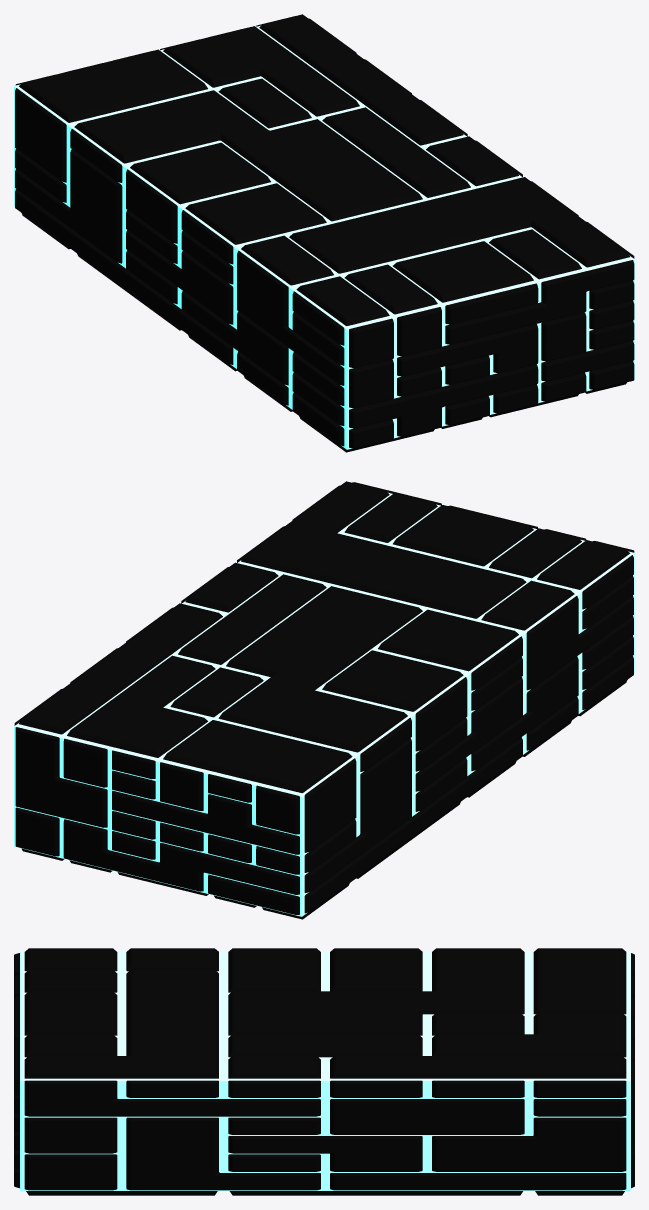
File: panelwall.fbx
3 views of the same model, one above another, from view 1: azimuth 30°, elevation 25°; view 2: azimuth 150°, elevation 25°; view 3: azimuth 270°, elevation 25° (orthographic). The views are drawn at different scales.
Parts seen in each view (by area): view 1: Cube.001_RPanel; view 2: Cube.001_RPanel; view 3: Cube.001_RPanel.
Part boxes in pixels (left/top/right/bottom): Cube.001_RPanel: left=14, top=14, right=634, bottom=452; Cube.001_RPanel: left=14, top=481, right=634, bottom=919; Cube.001_RPanel: left=14, top=948, right=634, bottom=1195.
Size of the model in its own units: 5.13 by 2.22 by 10.16.
